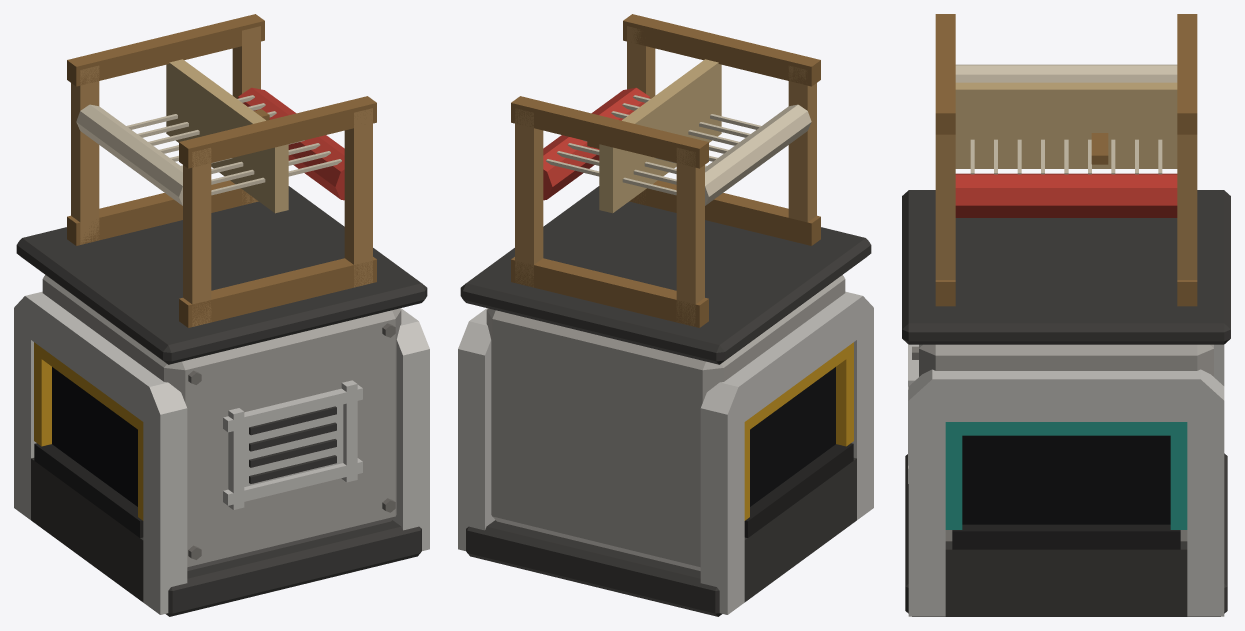
File: loom.fbx
The picture shows the model from 3 angles, left to right: view 1: azimuth 30°, elevation 25°; view 2: azimuth 150°, elevation 25°; view 3: azimuth 270°, elevation 25°; orthographic projection. The views are drawn at different scales.
Visible parts, largest first — view 1: loom; view 2: loom; view 3: loom.
Part boxes in pixels (x1=…): loom: x1=14, y1=14, x2=429, y2=616; loom: x1=458, y1=14, x2=873, y2=616; loom: x1=902, y1=14, x2=1230, y2=616.
Bounding box in the file's own units: 3 × 4.82 × 2.94.
